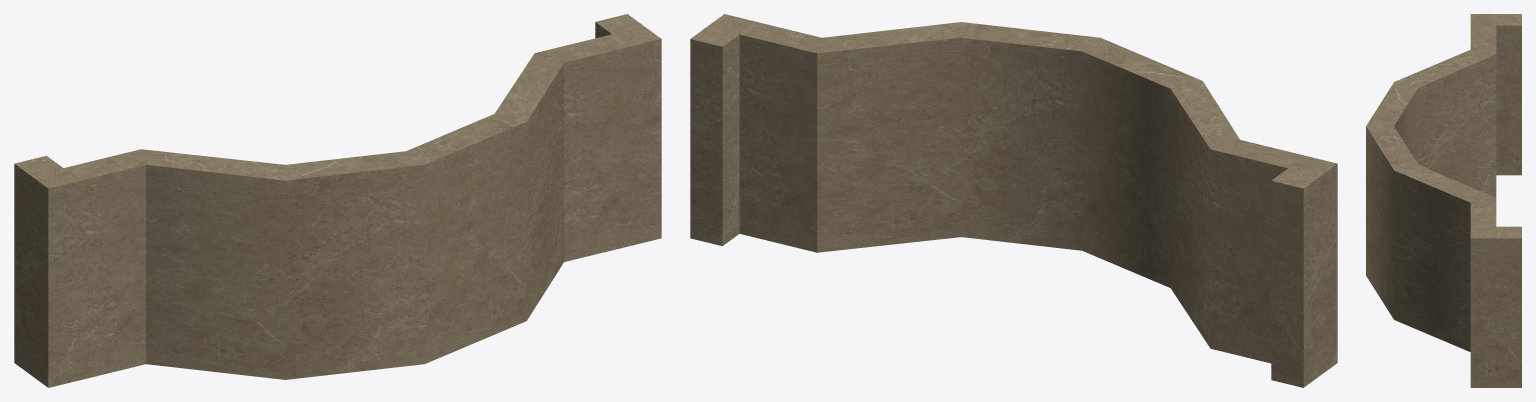
Rendered from Wall02_Maincity_001.FBX.
The picture shows the model from 3 angles, left to right: view 1: azimuth 30°, elevation 25°; view 2: azimuth 150°, elevation 25°; view 3: azimuth 270°, elevation 25°; orthographic projection. The views are drawn at different scales.
Parts seen in each view (by area): view 1: Wall02_Maincity_001; view 2: Wall02_Maincity_001; view 3: Wall02_Maincity_001.
Boxes of the visible parts, bbox=[...] form: Wall02_Maincity_001: bbox=[14, 14, 661, 387]; Wall02_Maincity_001: bbox=[690, 14, 1337, 387]; Wall02_Maincity_001: bbox=[1366, 14, 1521, 387].
Bounding box in the file's own units: 570 × 177 × 167.
1 material, 1 textured.
